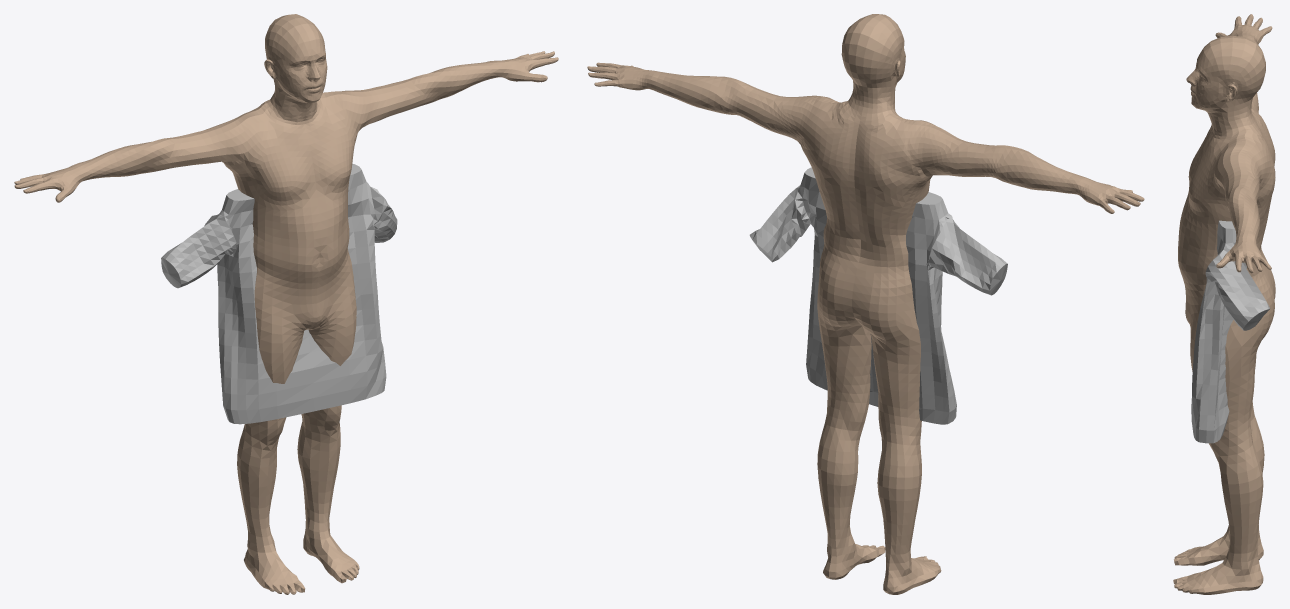
The model's file is fitted_garment.glb.
3 renders of one model, left to right at view 1: azimuth 30°, elevation 25°; view 2: azimuth 150°, elevation 25°; view 3: azimuth 270°, elevation 25°, orthographic. The views are drawn at different scales.
Visible parts, largest first — view 1: world.001, TShirt; view 2: world.001, TShirt; view 3: world.001, TShirt.
Part boxes in pixels (x1,y1,x2,y2): world.001: [14, 14, 558, 594]; TShirt: [161, 163, 397, 424]; world.001: [587, 14, 1144, 594]; TShirt: [749, 167, 1007, 424]; world.001: [1173, 14, 1275, 594]; TShirt: [1191, 220, 1270, 443].
Size of the model in its own units: 1.84 by 1.78 by 0.3076.
